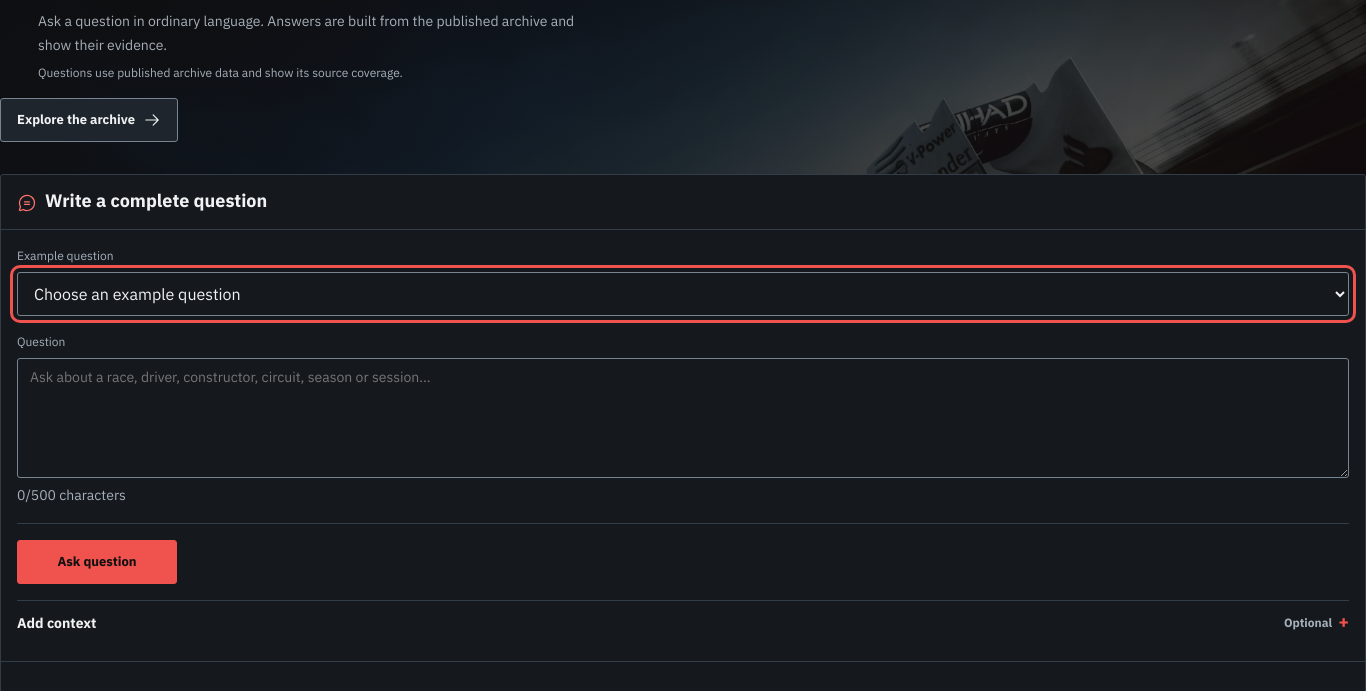
Test: example selector fills the composer without submitting
The width and height of the screenshot is (1366, 691).
Select "Which driver has had the most fifth-place finishes?" in the dropdown labelled "Example question" at (683, 294), box x1=17 y1=272 x2=1349 y2=316
(page scrolled)
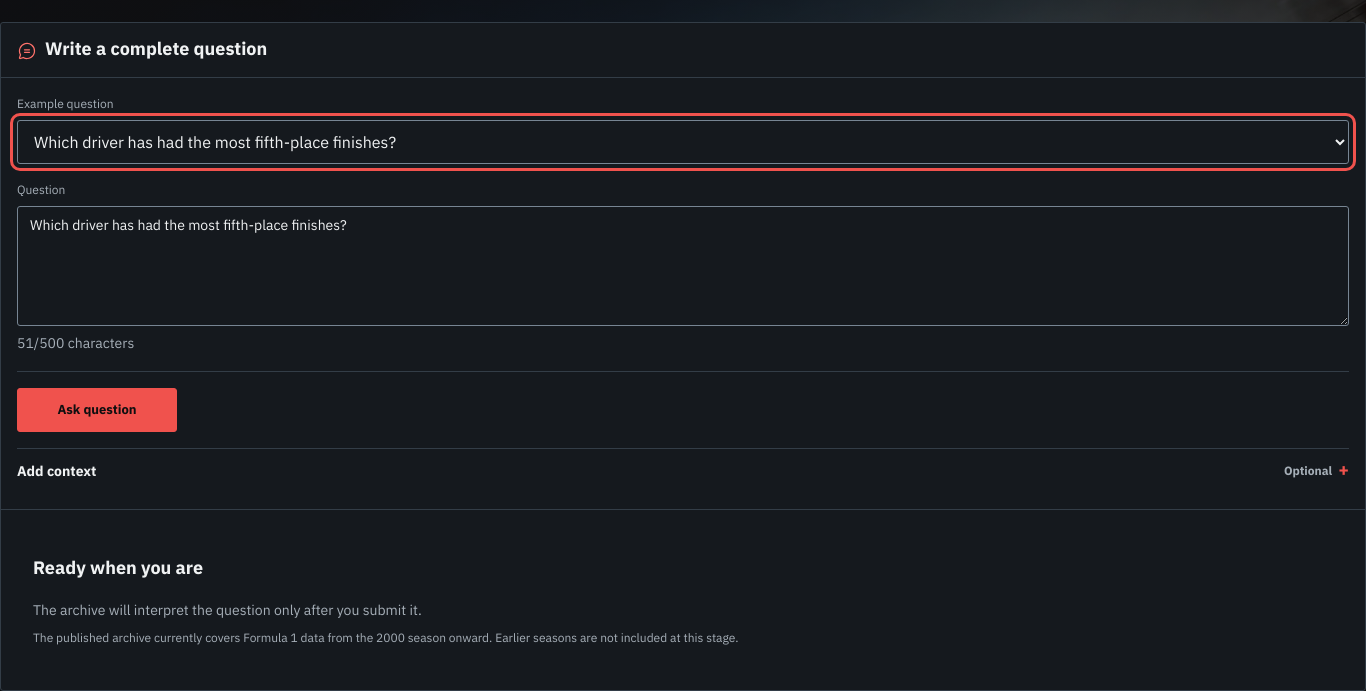
Expected: the button "Ask question" is shown, x1=17 y1=388 x2=177 y2=432
Expected: the text box labelled "Question" holds "Which driver has had the most fifth-place finishes?", x1=17 y1=206 x2=1349 y2=326
